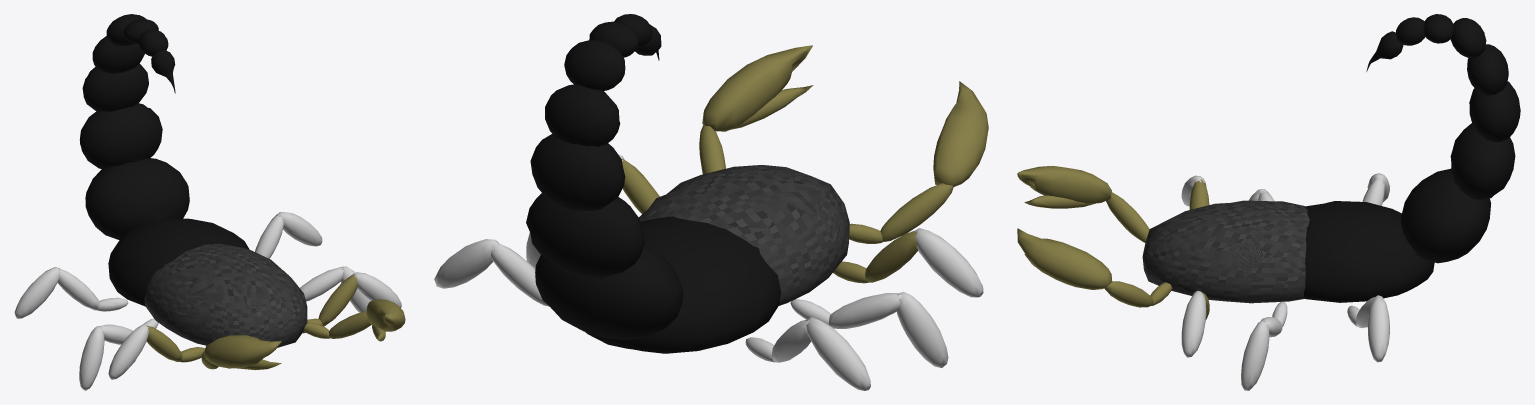
Rendered from scorpion_000005.obj.
The picture shows the model from 3 angles, left to right: view 1: azimuth 30°, elevation 25°; view 2: azimuth 150°, elevation 25°; view 3: azimuth 270°, elevation 25°; orthographic projection. The views are drawn at different scales.
Visible parts, largest first — view 1: Sphere.010_Sphere.012, Sphere.002_Sphere.004, Sphere.011_Sphere.013, Sphere.003_Sphere.005, Sphere.030_Sphere.000, Sphere.004_Sphere.006, Sphere.014_Sphere.023, Sphere.000_Sphere.019, Sphere.013_Sphere.017, Sphere.018_Sphere.025, Sphere.012_Sphere.020, Sphere.005_Sphere.007 (+9 smaller); view 2: Sphere.010_Sphere.012, Sphere.011_Sphere.013, Sphere.002_Sphere.004, Sphere.030_Sphere.000, Sphere.003_Sphere.005, Sphere.004_Sphere.006, Sphere.014_Sphere.023, Sphere.005_Sphere.007, Sphere.028_Sphere.046, Sphere.013_Sphere.017, Sphere.018_Sphere.025, Sphere.006_Sphere.008 (+10 smaller); view 3: Sphere.010_Sphere.012, Sphere.011_Sphere.013, Sphere.002_Sphere.004, Sphere.030_Sphere.000, Sphere.003_Sphere.005, Sphere.004_Sphere.006, Sphere.028_Sphere.046, Sphere.005_Sphere.007, Sphere.000_Sphere.019, Sphere.012_Sphere.020, Sphere.014_Sphere.023, Sphere.006_Sphere.008 (+6 smaller).
Part boxes in pixels (x1=…): Sphere.010_Sphere.012: x1=144, y1=244, x2=307, y2=347; Sphere.002_Sphere.004: x1=85, y1=158, x2=189, y2=239; Sphere.011_Sphere.013: x1=108, y1=218, x2=249, y2=306; Sphere.003_Sphere.005: x1=79, y1=103, x2=162, y2=168; Sphere.030_Sphere.000: x1=203, y1=299, x2=405, y2=368; Sphere.004_Sphere.006: x1=82, y1=63, x2=148, y2=112; Sphere.014_Sphere.023: x1=14, y1=212, x2=322, y2=318; Sphere.000_Sphere.019: x1=108, y1=272, x2=401, y2=379; Sphere.013_Sphere.017: x1=146, y1=273, x2=358, y2=361; Sphere.018_Sphere.025: x1=57, y1=213, x2=284, y2=310; Sphere.012_Sphere.020: x1=79, y1=266, x2=370, y2=390; Sphere.005_Sphere.007: x1=92, y1=36, x2=144, y2=73; Sphere.010_Sphere.012: x1=639, y1=165, x2=849, y2=305; Sphere.011_Sphere.013: x1=585, y1=216, x2=780, y2=353; Sphere.002_Sphere.004: x1=535, y1=244, x2=683, y2=339; Sphere.030_Sphere.000: x1=702, y1=45, x2=988, y2=186; Sphere.003_Sphere.005: x1=526, y1=193, x2=644, y2=278; Sphere.004_Sphere.006: x1=530, y1=134, x2=625, y2=211; Sphere.014_Sphere.023: x1=434, y1=239, x2=870, y2=390; Sphere.005_Sphere.007: x1=545, y1=84, x2=620, y2=146; Sphere.028_Sphere.046: x1=699, y1=125, x2=953, y2=241; Sphere.013_Sphere.017: x1=622, y1=158, x2=918, y2=282; Sphere.018_Sphere.025: x1=491, y1=242, x2=810, y2=362; Sphere.006_Sphere.008: x1=564, y1=40, x2=625, y2=90; Sphere.010_Sphere.012: x1=1142, y1=200, x2=1309, y2=303; Sphere.011_Sphere.013: x1=1304, y1=201, x2=1434, y2=302; Sphere.002_Sphere.004: x1=1400, y1=168, x2=1491, y2=263; Sphere.030_Sphere.000: x1=1017, y1=166, x2=1112, y2=289; Sphere.003_Sphere.005: x1=1450, y1=123, x2=1515, y2=200; Sphere.004_Sphere.006: x1=1469, y1=81, x2=1520, y2=142; Sphere.028_Sphere.046: x1=1104, y1=192, x2=1153, y2=307; Sphere.005_Sphere.007: x1=1467, y1=44, x2=1508, y2=95; Sphere.000_Sphere.019: x1=1181, y1=175, x2=1206, y2=357; Sphere.012_Sphere.020: x1=1241, y1=189, x2=1269, y2=390; Sphere.014_Sphere.023: x1=1367, y1=173, x2=1389, y2=362; Sphere.006_Sphere.008: x1=1450, y1=18, x2=1486, y2=57.
Size of the model in its own units: 0.9552 by 0.8057 by 1.24.
